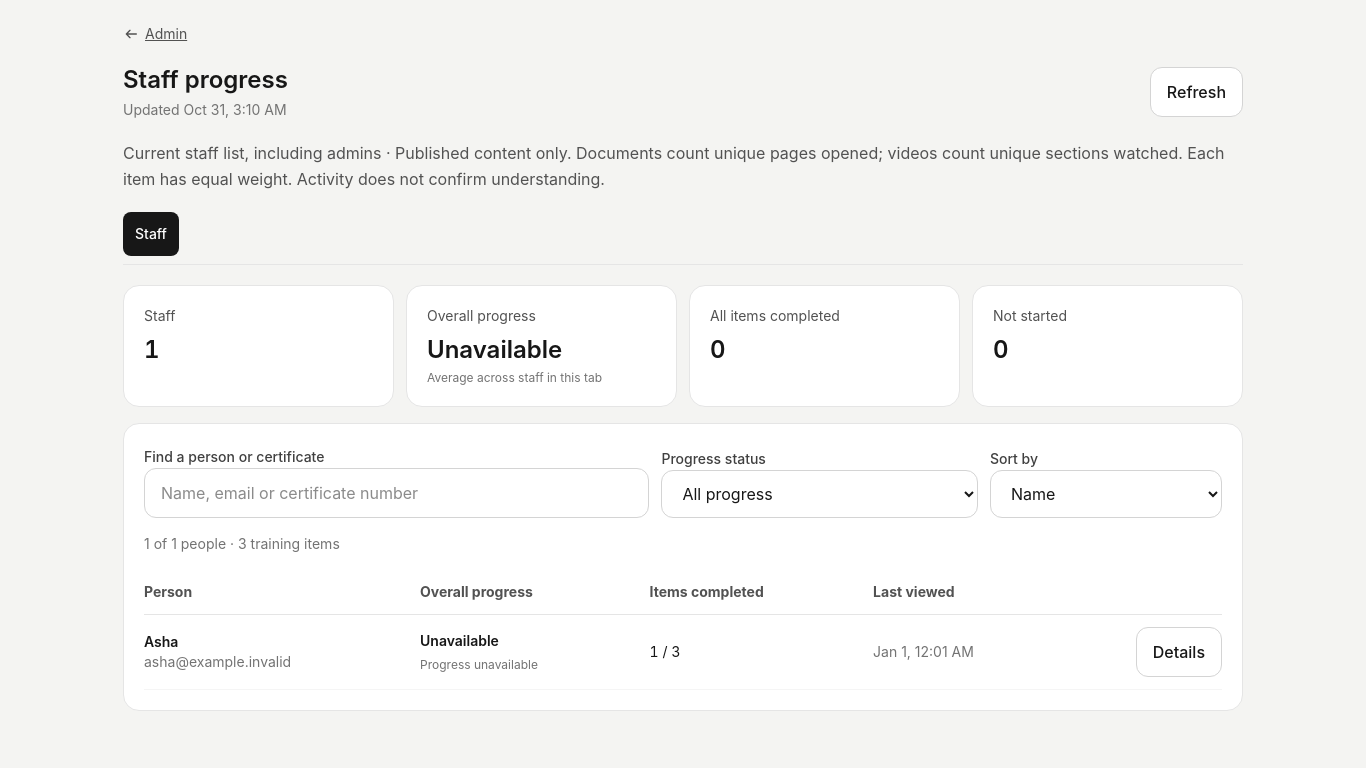
Test: module details use equal item weighting and show document, photo and unavailable video progress
Click the button with aria-label "View progress for Asha" at x=1179, y=652, box x1=1136 y1=627 x2=1222 y2=677
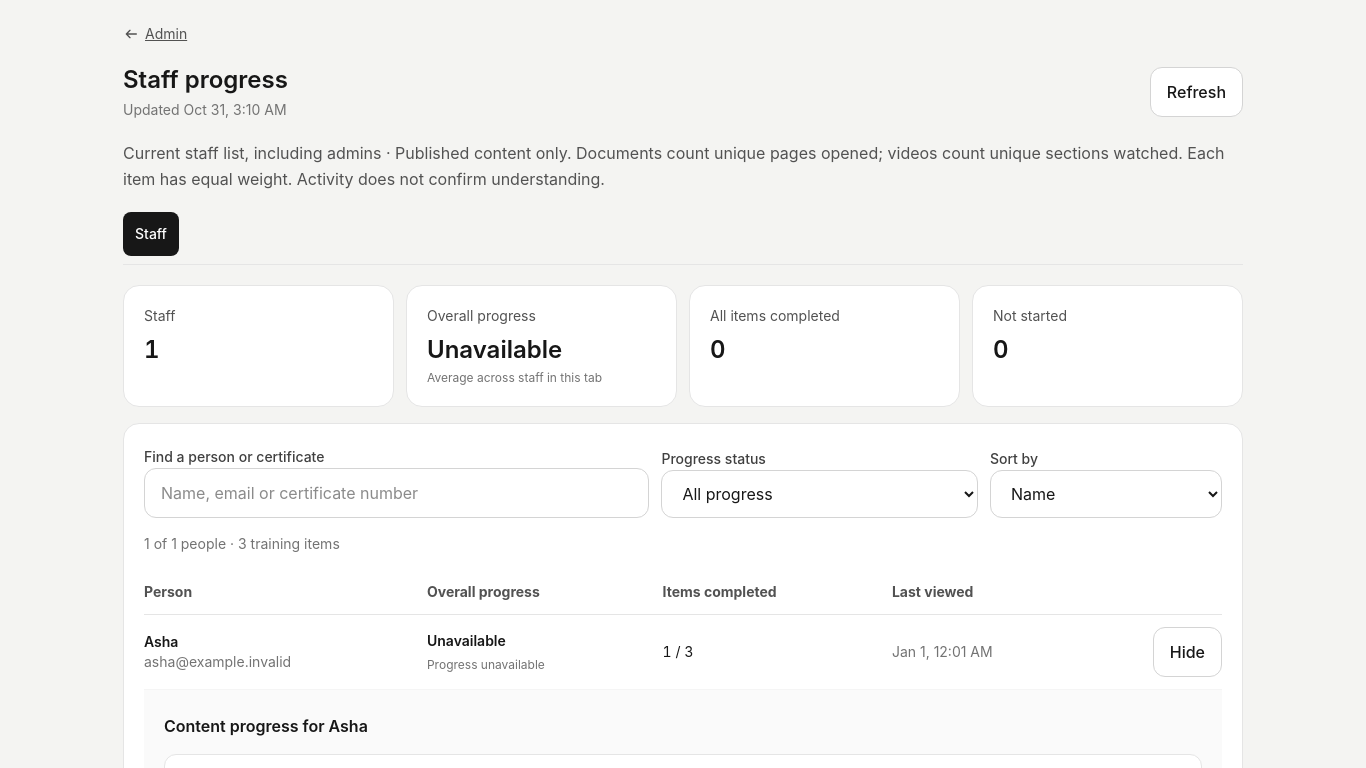
Click the button with aria-label "Hide progress for Asha" at x=1187, y=652, box x1=1153 y1=627 x2=1222 y2=677
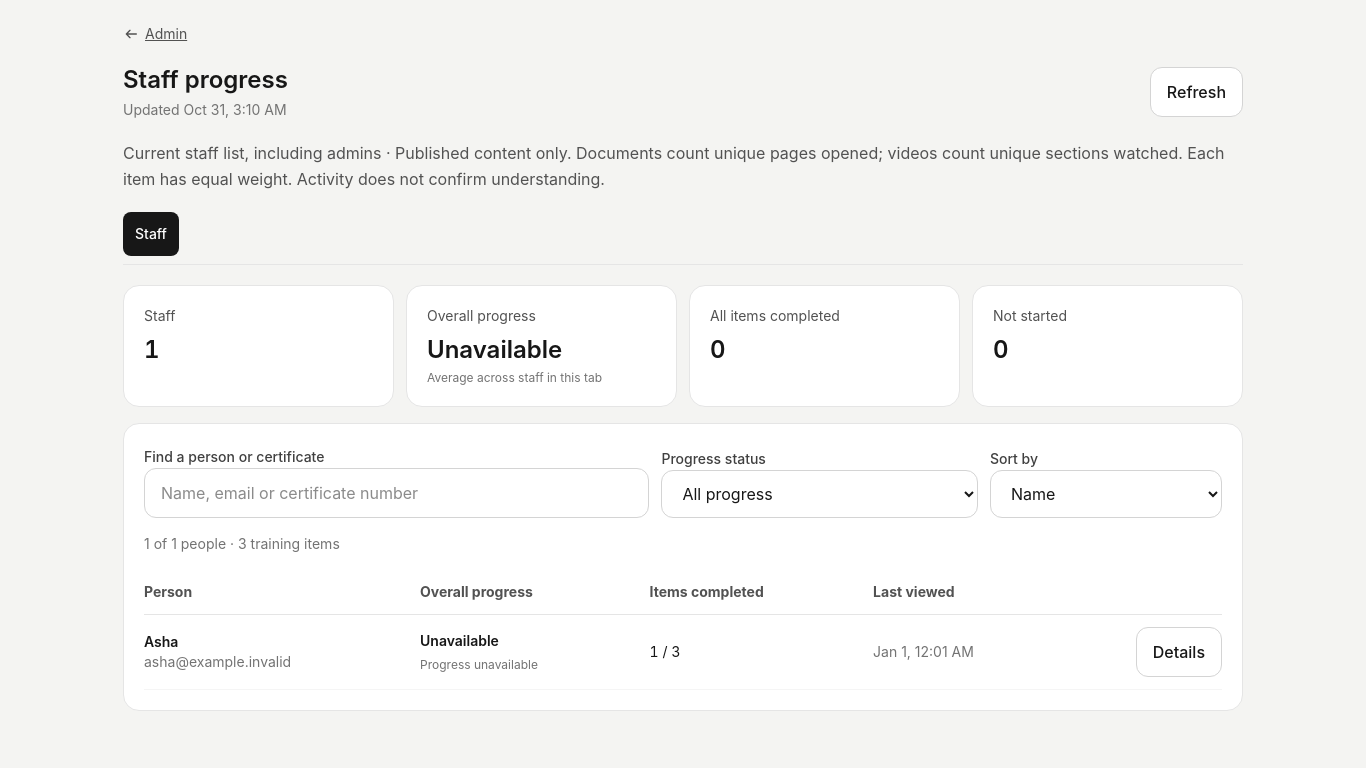
Expected: the heading "Content progress for Asha" is gone
